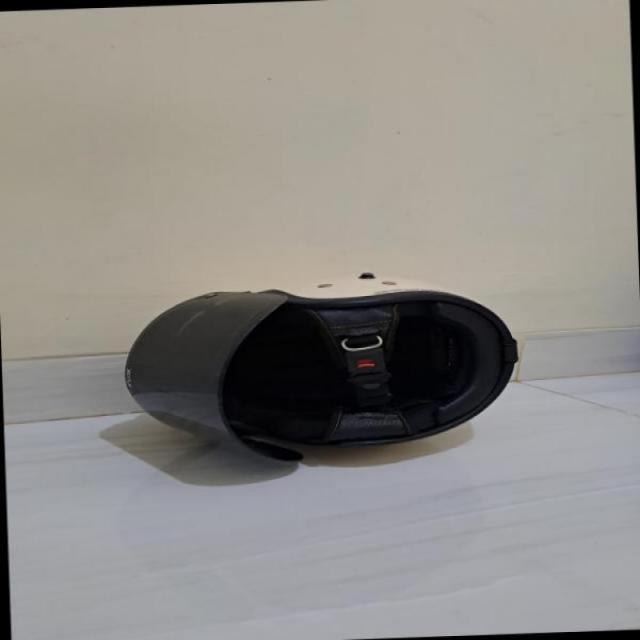Helmet: (110, 272, 510, 457)
